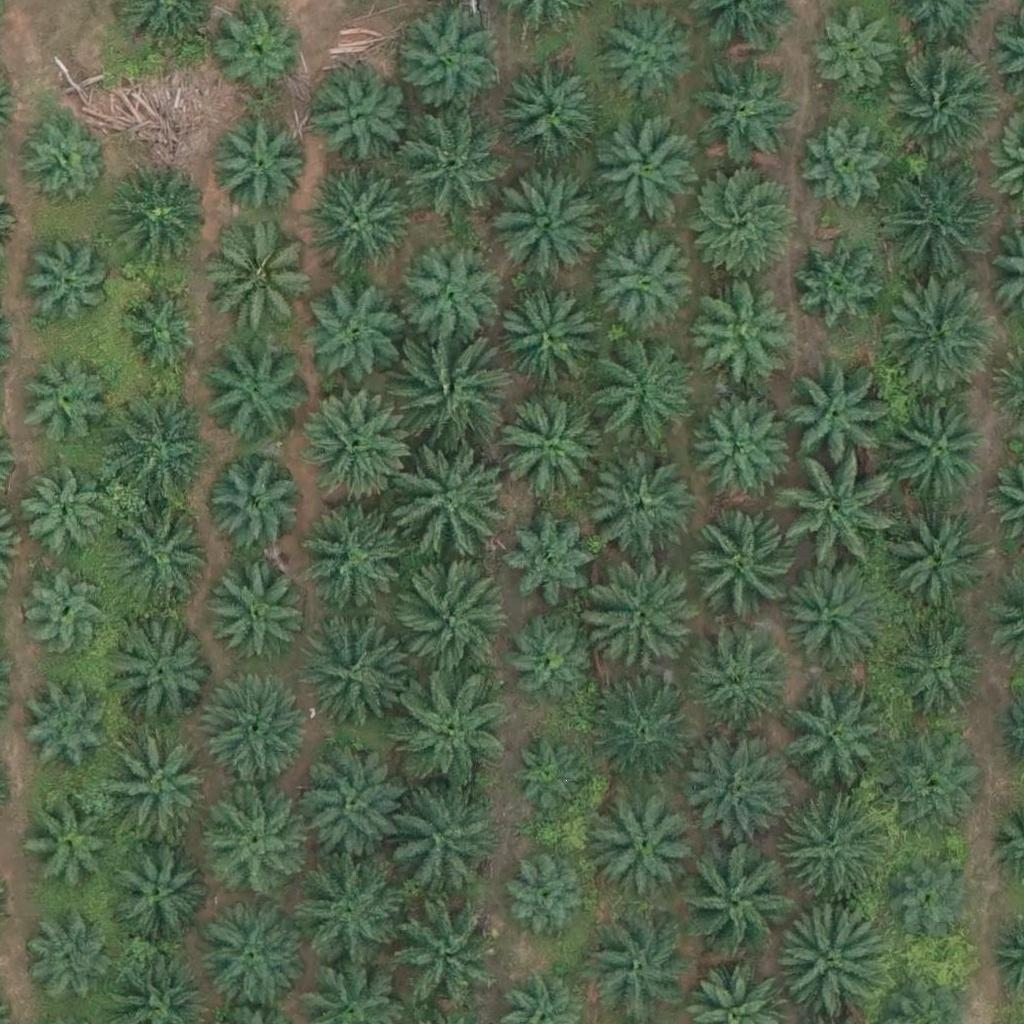Kelapa_Sawit: (582, 455, 695, 569), (300, 612, 413, 726), (775, 561, 888, 674), (779, 678, 892, 791), (772, 794, 885, 907), (685, 508, 798, 621), (390, 338, 503, 451), (399, 567, 512, 680), (293, 748, 406, 861), (300, 502, 413, 615), (197, 339, 310, 452), (199, 674, 312, 787), (105, 736, 218, 849), (103, 494, 216, 607), (104, 394, 217, 507), (680, 159, 793, 272), (587, 116, 700, 229), (298, 160, 411, 273), (880, 398, 992, 512), (394, 672, 506, 786), (881, 42, 993, 156), (878, 160, 990, 274), (879, 283, 991, 396), (884, 508, 996, 621), (777, 457, 889, 570), (779, 907, 891, 1020), (680, 839, 792, 952), (676, 730, 788, 843), (589, 337, 701, 450), (590, 569, 702, 682), (589, 671, 701, 784), (590, 790, 702, 903), (495, 390, 607, 503), (396, 450, 508, 563), (385, 782, 497, 895), (390, 892, 502, 1005), (291, 856, 403, 969), (299, 386, 411, 499), (198, 903, 310, 1016), (493, 165, 605, 278), (397, 110, 509, 223), (207, 223, 319, 336), (879, 739, 979, 840), (691, 635, 791, 736), (697, 398, 797, 499), (502, 512, 602, 613), (202, 457, 302, 558), (210, 561, 310, 662), (206, 798, 306, 899), (102, 842, 202, 943), (113, 625, 213, 726), (787, 230, 887, 331), (686, 280, 786, 381), (595, 229, 695, 330), (497, 63, 597, 164), (492, 291, 592, 392), (401, 246, 501, 347), (308, 67, 408, 168), (301, 281, 401, 382), (213, 115, 313, 216), (889, 625, 989, 725), (780, 369, 880, 469), (800, 111, 900, 211), (691, 62, 791, 162), (107, 169, 207, 269), (16, 361, 104, 449), (20, 473, 108, 561), (25, 799, 113, 887), (30, 919, 118, 1007), (812, 6, 900, 94), (116, 282, 204, 370), (887, 855, 974, 943), (503, 849, 590, 937), (514, 616, 601, 704), (22, 570, 109, 658), (23, 689, 110, 777), (216, 2, 303, 90), (23, 236, 110, 324), (20, 113, 107, 201), (512, 739, 587, 815)
